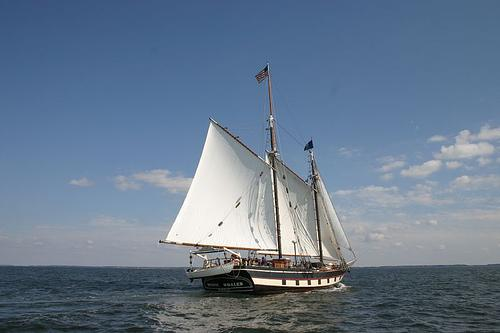Ship: (159, 62, 359, 293)
